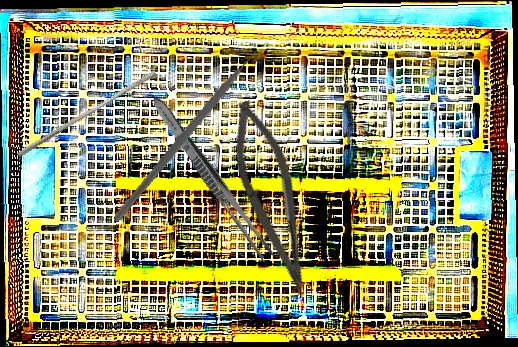Chopper: (114, 30, 276, 240)
Dressing Forceps: (145, 91, 279, 265)
Micro Scissor: (214, 94, 333, 302)
Pusher: (16, 65, 158, 163)
